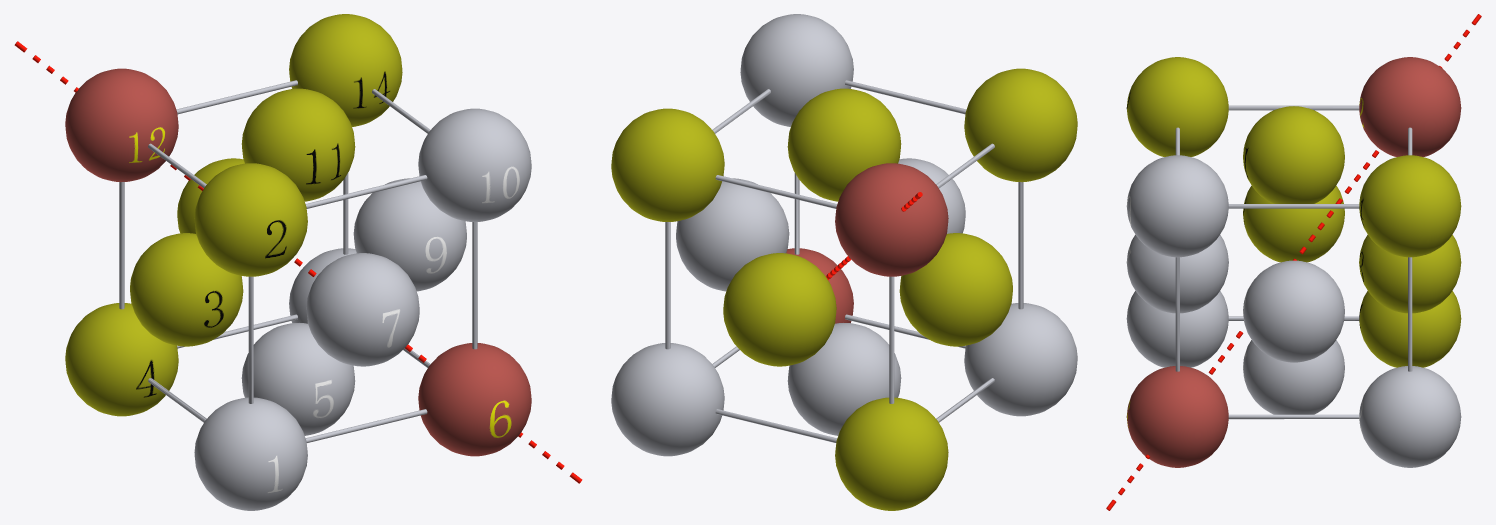
Rendered from erbaiqi.FBX.
The picture shows the model from 3 angles, left to right: view 1: azimuth 30°, elevation 25°; view 2: azimuth 150°, elevation 25°; view 3: azimuth 270°, elevation 25°; orthographic projection. The views are drawn at different scales.
Parts seen in each view (by area): view 1: A027, A024, A023, A026, A011, A033, A028, A029, A030, A032, A025, A022 (+4 smaller); view 2: A031, A029, A032, A021, A033, A027, A028, A023, A030, A026, A025, A022 (+3 smaller); view 3: A026, A032, A025, A021, A011, A030, A027, A033, A022, A024, A031, A023 (+4 smaller).
Boxes of the visible parts, x1,y1,x2,y2 form: A027: (194, 163, 307, 276); A024: (306, 253, 419, 366); A023: (194, 397, 307, 510); A026: (418, 108, 531, 221); A011: (418, 343, 531, 456); A033: (65, 68, 178, 182); A028: (130, 233, 243, 346); A029: (65, 303, 178, 416); A030: (241, 88, 355, 201); A032: (289, 14, 402, 126); A025: (353, 178, 466, 291); A022: (241, 323, 355, 435); A031: (723, 253, 836, 366); A029: (835, 397, 948, 510); A032: (611, 108, 724, 221); A021: (611, 343, 724, 456); A033: (835, 163, 948, 276); A027: (964, 68, 1077, 182); A028: (899, 233, 1012, 346); A023: (964, 303, 1077, 416); A030: (787, 88, 901, 201); A026: (740, 14, 853, 126); A025: (676, 178, 789, 291); A022: (787, 323, 901, 435); A026: (1126, 155, 1228, 257); A032: (1359, 155, 1461, 257); A025: (1243, 260, 1344, 362); A021: (1359, 366, 1461, 467); A011: (1126, 366, 1228, 467); A030: (1243, 106, 1344, 203); A027: (1126, 57, 1228, 156); A033: (1359, 57, 1461, 156); A022: (1243, 340, 1344, 414); A024: (1126, 234, 1228, 313); A031: (1359, 234, 1461, 313); A023: (1126, 291, 1228, 367).
Size of the model in its own units: 80.82 by 80.82 by 80.82.
